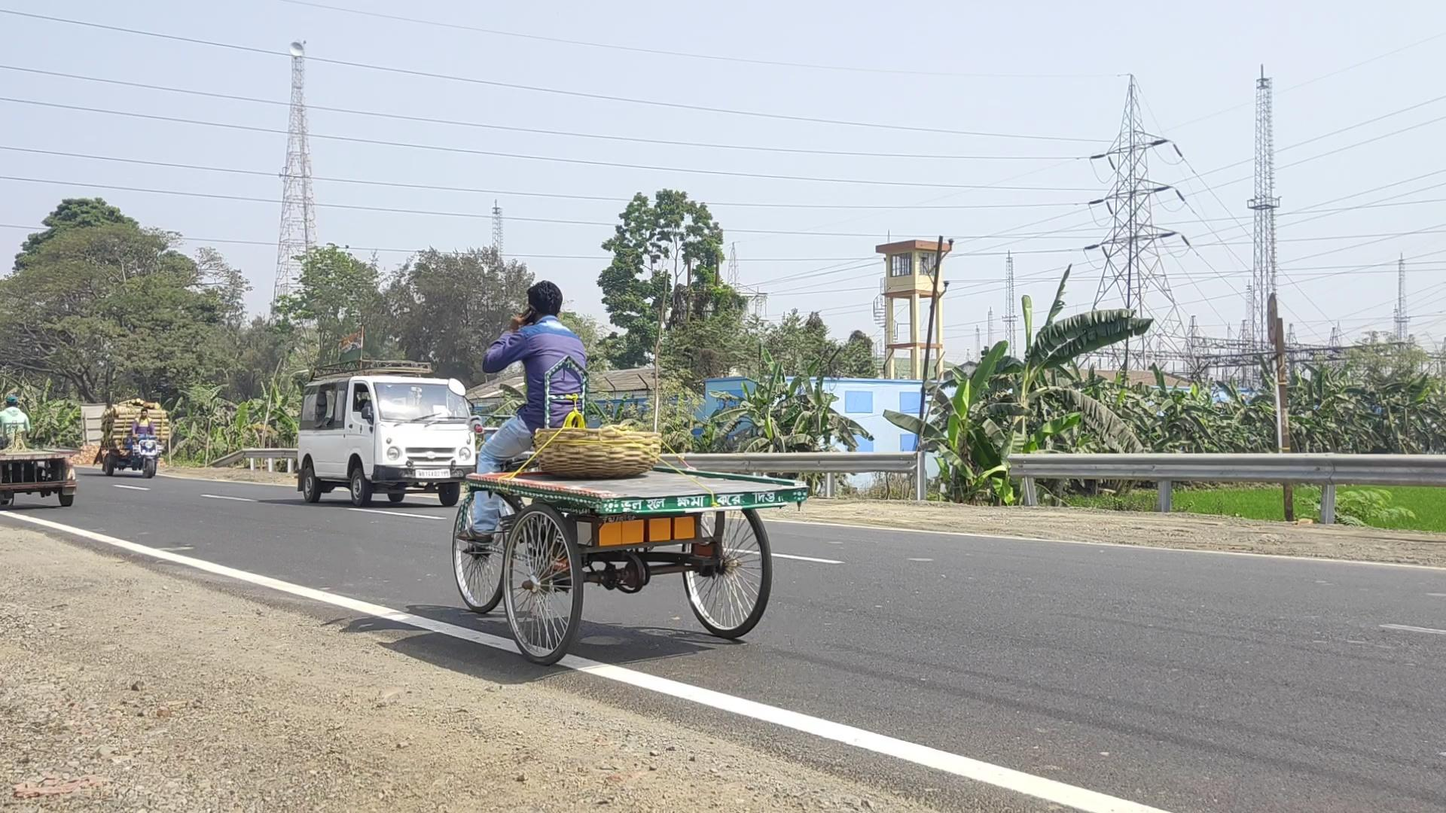van: (298, 366, 478, 505)
